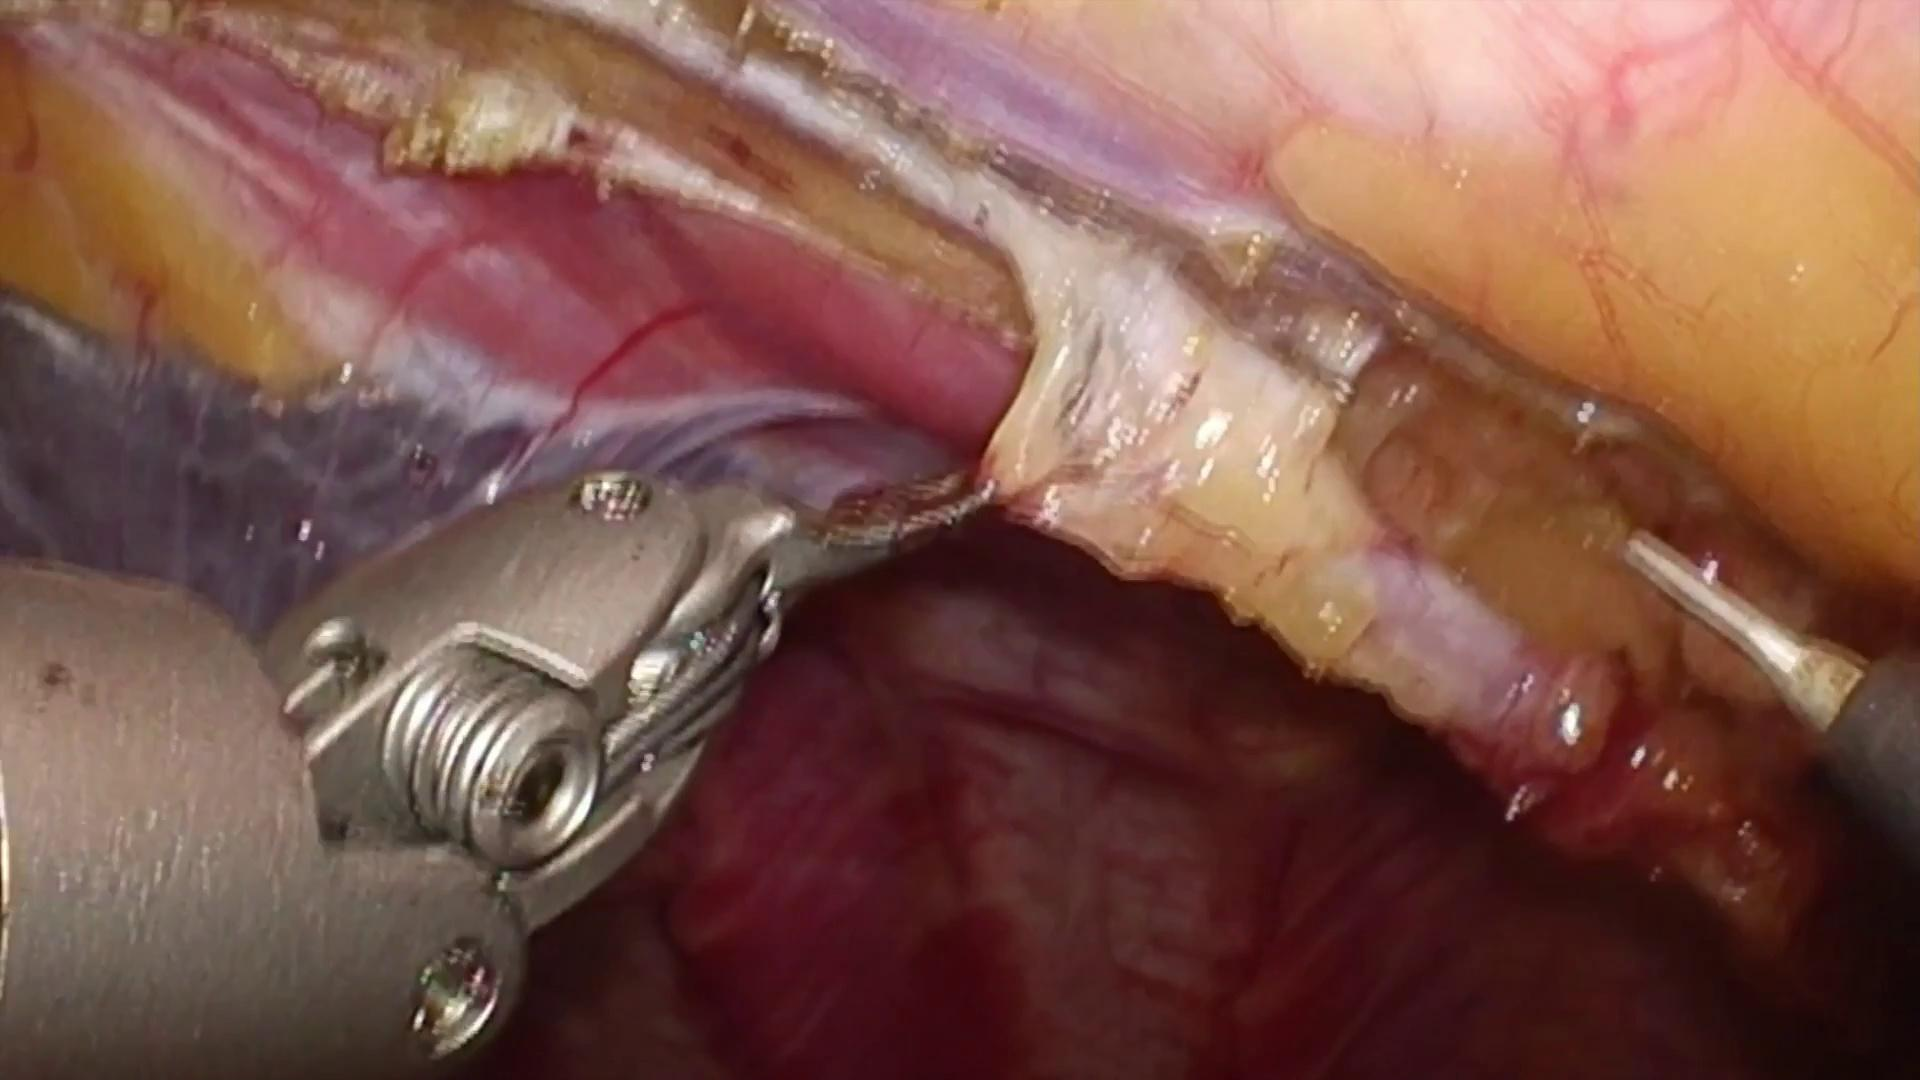Cautery_Spatula: (1625, 526, 1920, 874)
Debakey: (696, 448, 1025, 622)
